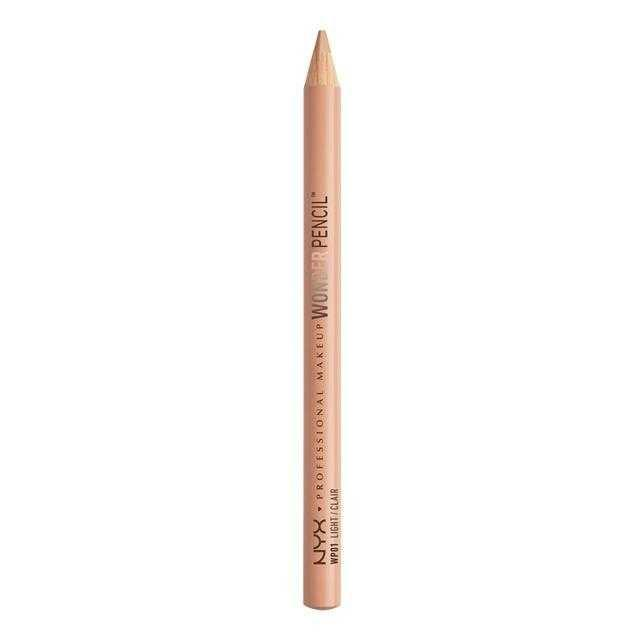pencil: (296, 26, 347, 612)
